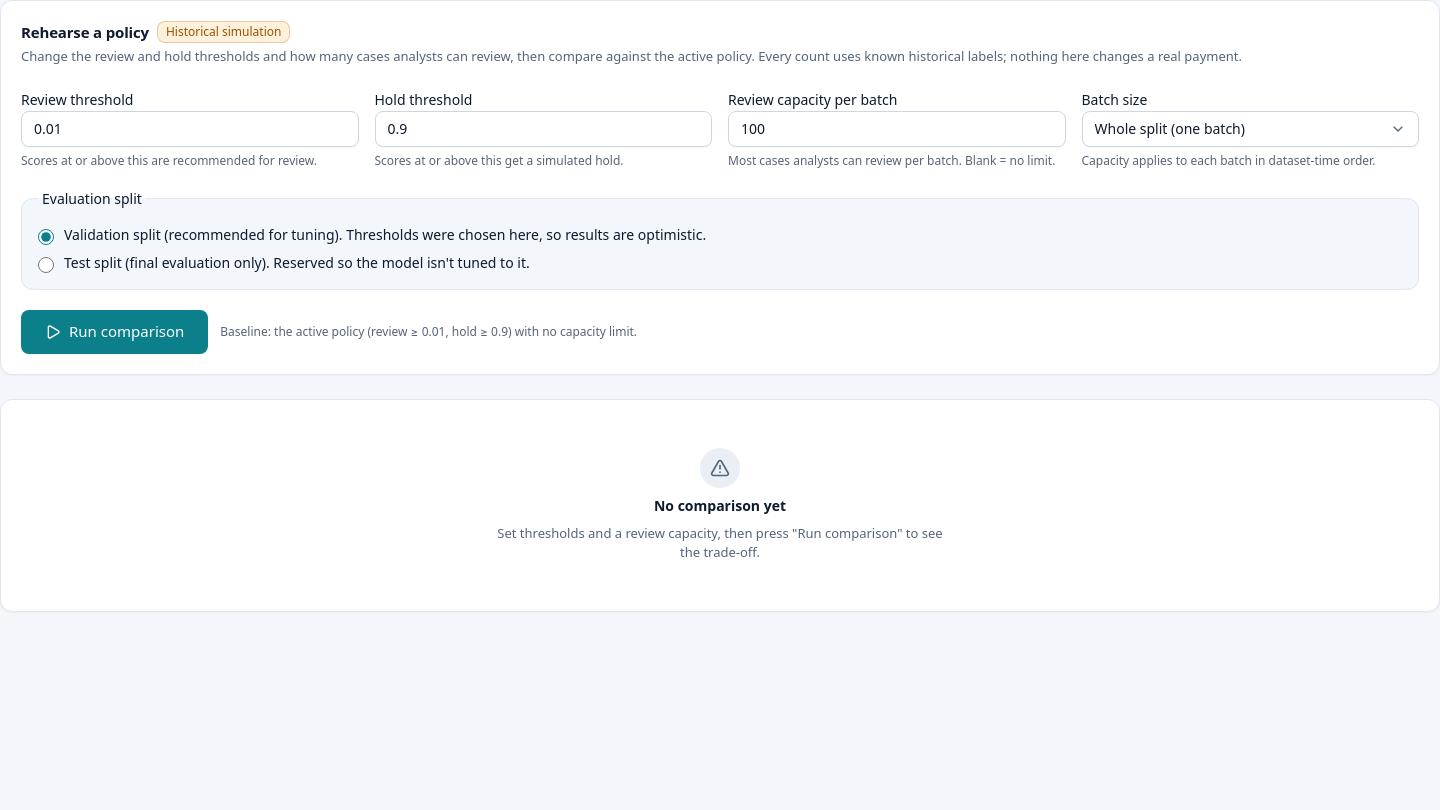
PolicyRehearsal › shows the backend's error instead of stale or fake results
The width and height of the screenshot is (1440, 810).
Expected: the field labelled "Review threshold" holds "0.01", [21,110,358,146]
Step 1. Click the button "Run comparison" → [115, 332], box [21,310,208,354]
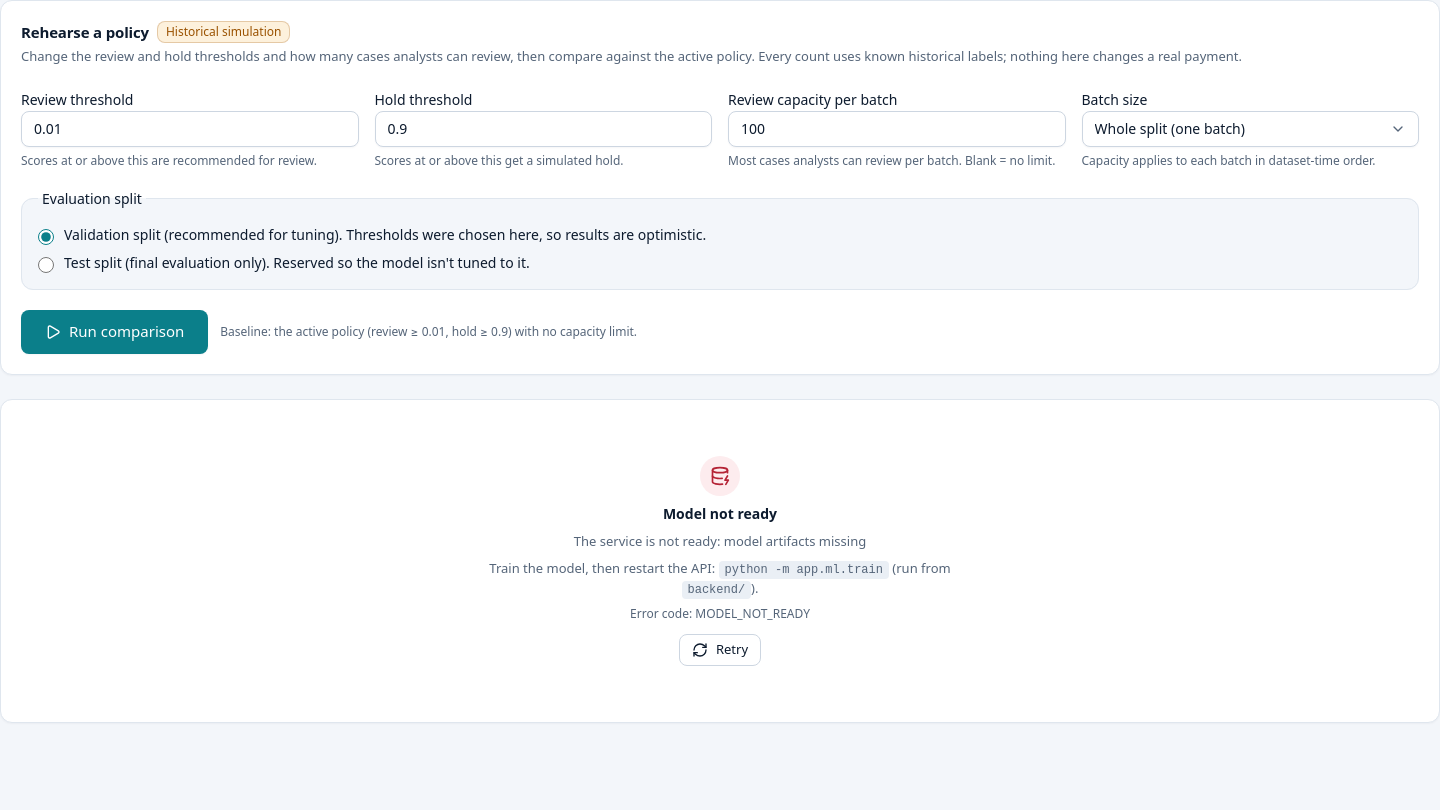
Result: the text "Model not ready" is shown at [663,504,777,524]
